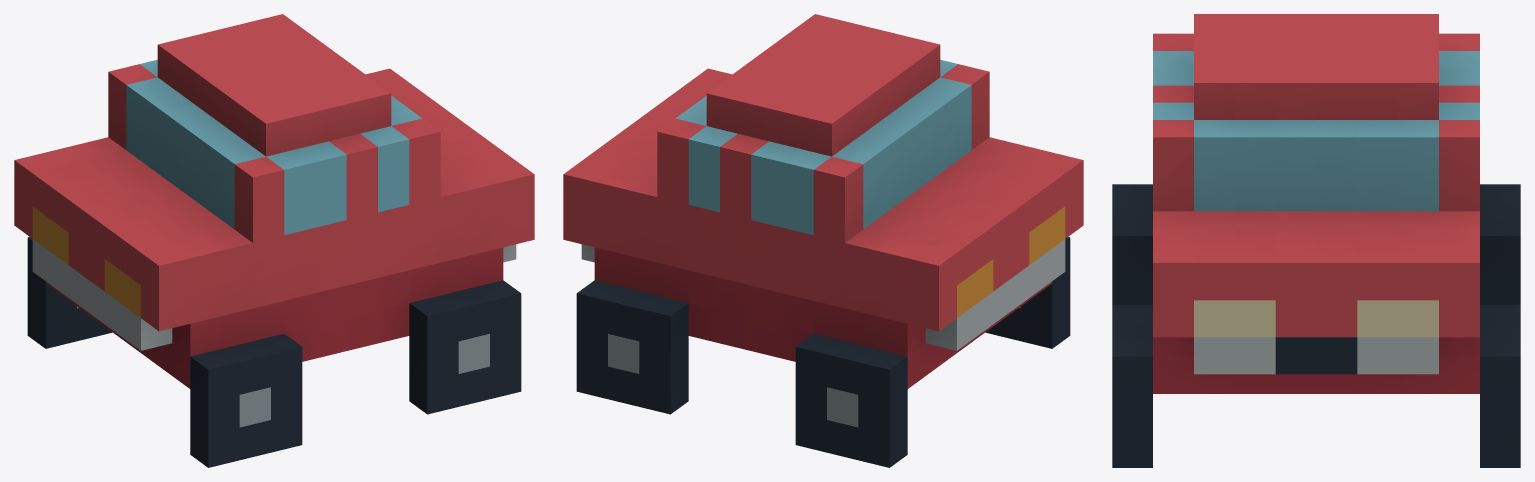
Rendered from car.glb.
The picture shows the model from 3 angles, left to right: view 1: azimuth 30°, elevation 25°; view 2: azimuth 150°, elevation 25°; view 3: azimuth 270°, elevation 25°; orthographic projection. The views are drawn at different scales.
Visible parts, largest first — view 1: car_body; view 2: car_body; view 3: car_body.
Boxes of the visible parts, x1,y1,x2,y2 form: car_body: (14,14,534,467); car_body: (563,14,1083,467); car_body: (1112,14,1520,467).
Bounding box in the file's own units: 1 × 0.75 × 0.8333.
